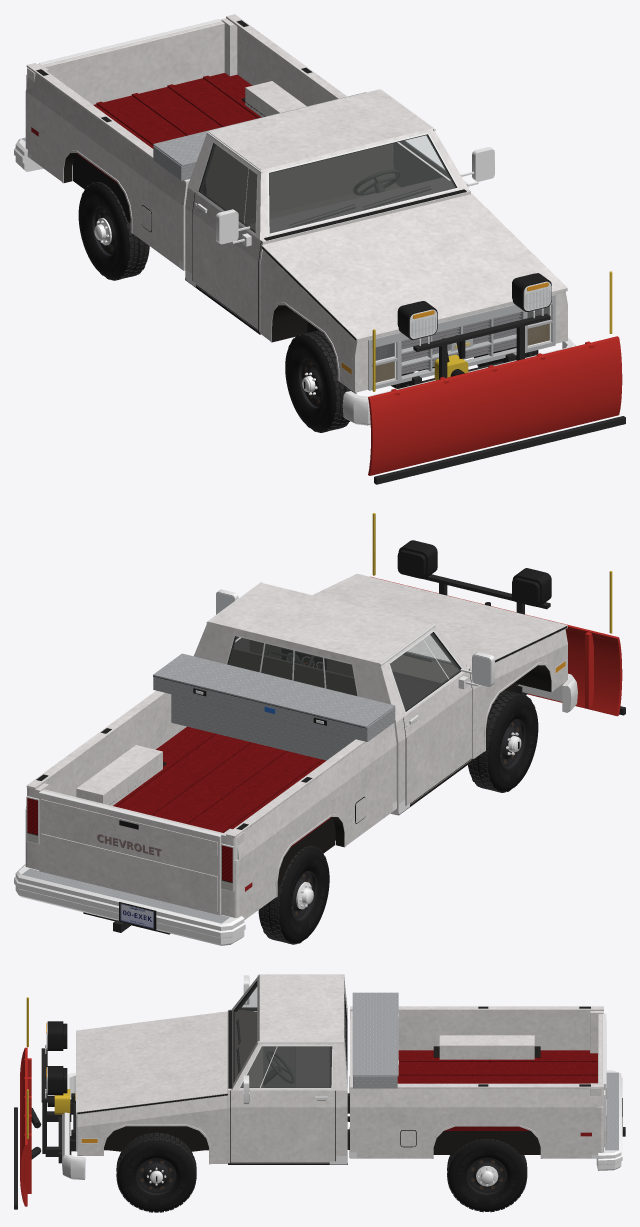
Rendered from bobs_truck.glb.
3 views of the same model, one above another, from view 1: azimuth 30°, elevation 25°; view 2: azimuth 150°, elevation 25°; view 3: azimuth 270°, elevation 25° (orthographic). The views are drawn at different scales.
Parts seen in each view (by area): view 1: bt_body_front, bt_body_cab, bt_bed, bt_plowblade, bt_glass, bt_tailgate, bt_plowmount, bt_tire_FR, bt_tire_RR, bt_toolbox, bt_bumper_F, bt_wheel_RR (+1 smaller); view 2: bt_bed, bt_body_cab, bt_tailgate, bt_toolbox, bt_body_front, bt_bumper_R, bt_glass, bt_plowblade, bt_tire_FR, bt_tire_RR, bt_plowmount, bt_wheel_FR (+2 smaller); view 3: bt_bed, bt_body_cab, bt_body_front, bt_glass, bt_toolbox, bt_tire_FL, bt_tire_RL, bt_plowmount, bt_plowblade, bt_bumper_R, bt_bumper_F, bt_wheel_FL (+3 smaller).
Part boxes in pixels (x1,y1,x2,y2): bt_body_front: [260, 194, 567, 392]; bt_body_cab: [185, 89, 494, 334]; bt_bed: [25, 14, 346, 270]; bt_plowblade: [368, 271, 625, 484]; bt_glass: [200, 135, 455, 232]; bt_tailgate: [39, 19, 224, 104]; bt_plowmount: [397, 273, 551, 380]; bt_tire_FR: [285, 330, 356, 432]; bt_tire_RR: [78, 182, 149, 280]; bt_toolbox: [153, 92, 366, 180]; bt_bumper_F: [342, 338, 576, 425]; bt_wheel_RR: [91, 206, 116, 256]; bt_bed: [25, 690, 396, 919]; bt_body_cab: [194, 582, 494, 815]; bt_tailgate: [39, 789, 223, 915]; bt_toolbox: [153, 653, 395, 760]; bt_body_front: [312, 573, 567, 758]; bt_bumper_R: [14, 864, 245, 945]; bt_glass: [228, 633, 459, 710]; bt_plowblade: [370, 513, 625, 716]; bt_tire_FR: [468, 690, 538, 792]; bt_tire_RR: [258, 846, 329, 944]; bt_plowmount: [397, 540, 551, 695]; bt_wheel_FR: [500, 719, 525, 768]; bt_bed: [350, 1006, 605, 1158]; bt_body_cab: [228, 974, 347, 1164]; bt_body_front: [75, 1011, 227, 1164]; bt_glass: [234, 983, 345, 1087]; bt_toolbox: [352, 992, 398, 1088]; bt_tire_FL: [116, 1132, 196, 1212]; bt_tire_RL: [447, 1139, 527, 1212]; bt_plowmount: [41, 1021, 71, 1163]; bt_plowblade: [14, 997, 41, 1209]; bt_bumper_R: [596, 1070, 625, 1170]; bt_bumper_F: [62, 1072, 85, 1179]; bt_wheel_FL: [136, 1158, 176, 1194].
Size of the model in its own units: 2.56 by 1.85 by 6.18.
Materials: 33 (11 with a texture image).
